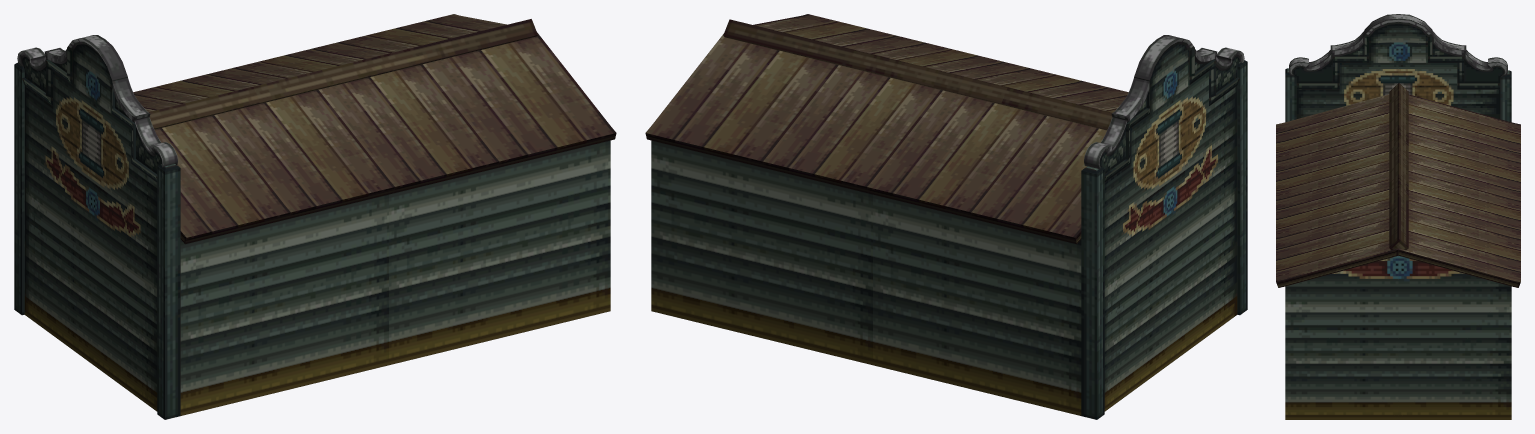
The model's file is EnvBdgMD_Wilderness_A_Outdoor_Shop_Tailor.FBX.
3 renders of one model, left to right at view 1: azimuth 30°, elevation 25°; view 2: azimuth 150°, elevation 25°; view 3: azimuth 270°, elevation 25°, orthographic. The views are drawn at different scales.
Visible parts, largest first — view 1: EnvBdgMD_Wilderness_A_Outdoor_Shop_Tailor; view 2: EnvBdgMD_Wilderness_A_Outdoor_Shop_Tailor; view 3: EnvBdgMD_Wilderness_A_Outdoor_Shop_Tailor.
Part boxes in pixels (left/top/right/bottom): EnvBdgMD_Wilderness_A_Outdoor_Shop_Tailor: left=14, top=14, right=616, bottom=419; EnvBdgMD_Wilderness_A_Outdoor_Shop_Tailor: left=645, top=14, right=1247, bottom=419; EnvBdgMD_Wilderness_A_Outdoor_Shop_Tailor: left=1276, top=14, right=1520, bottom=419.
Size of the model in its own units: 855 by 590 by 540.
1 material, 1 textured.
